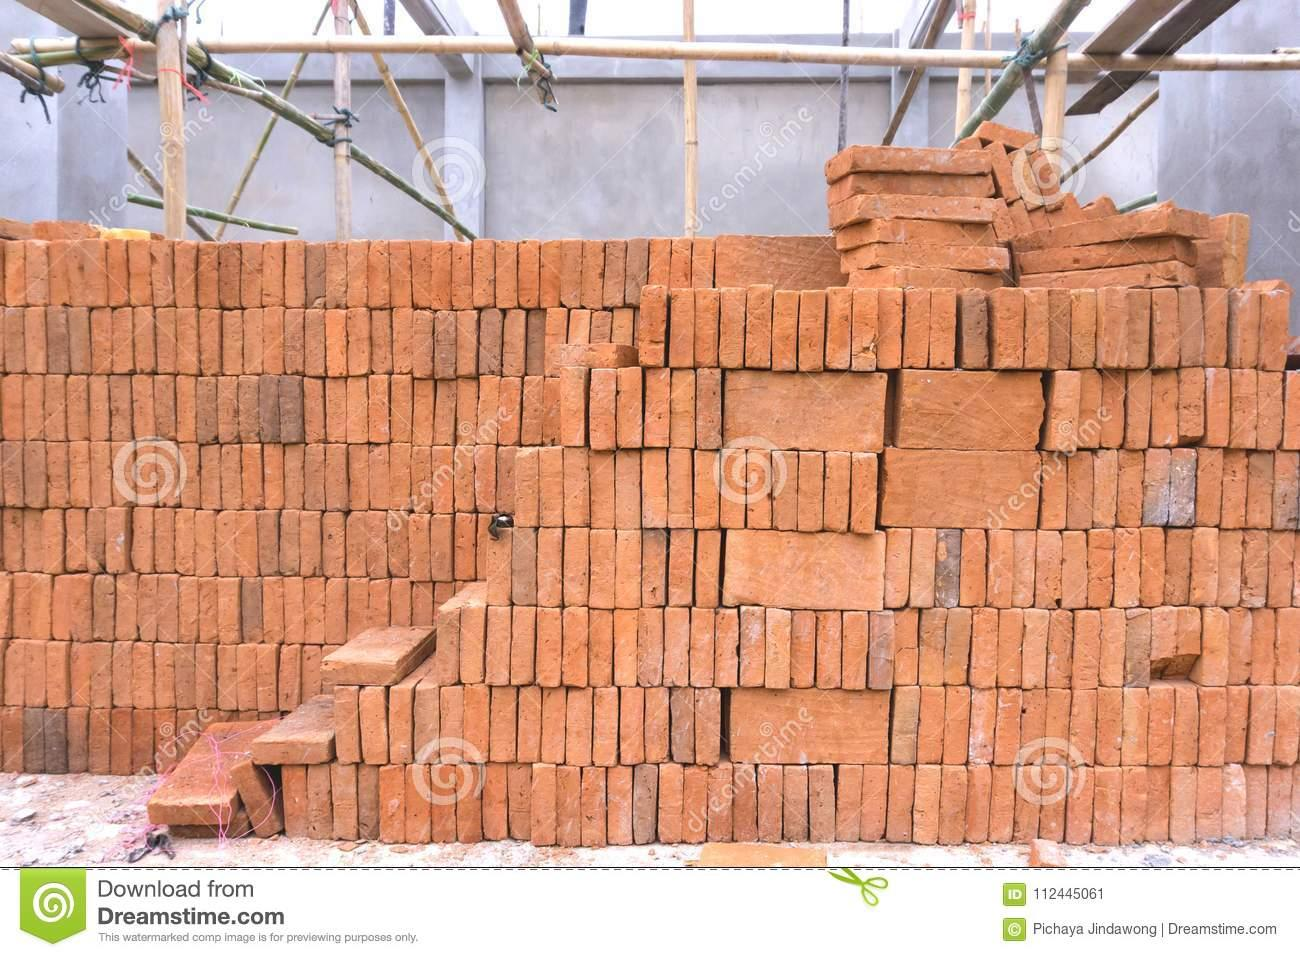brick: (723, 370, 887, 452), (723, 529, 886, 610), (881, 447, 1042, 529), (730, 687, 890, 764), (896, 369, 1045, 448), (716, 235, 850, 290), (1018, 237, 1176, 273), (1020, 260, 1179, 287), (852, 144, 991, 173), (232, 762, 283, 839), (856, 195, 993, 220), (875, 243, 1009, 269), (851, 174, 995, 196), (877, 219, 995, 244), (1048, 370, 1081, 450), (1260, 290, 1290, 369), (996, 287, 1024, 368), (1093, 767, 1122, 846), (745, 284, 772, 367), (970, 608, 998, 688), (1200, 608, 1229, 685), (1102, 287, 1129, 368), (851, 452, 878, 534), (1123, 608, 1152, 686), (1072, 610, 1100, 688), (891, 685, 919, 764), (939, 765, 967, 844), (639, 286, 666, 366), (876, 288, 903, 368), (798, 290, 826, 370), (1022, 608, 1050, 688), (1229, 369, 1258, 447), (1190, 527, 1218, 605), (1069, 690, 1097, 768), (1066, 766, 1094, 844), (902, 289, 930, 368), (720, 449, 747, 529), (852, 288, 878, 370), (1169, 449, 1197, 526), (919, 609, 948, 685), (1044, 688, 1072, 765), (826, 287, 852, 368), (934, 529, 961, 608), (1087, 529, 1114, 608), (1171, 686, 1198, 765), (1199, 687, 1226, 766), (913, 765, 941, 844), (985, 142, 1020, 203), (719, 288, 745, 368), (962, 288, 988, 368), (930, 288, 956, 368), (589, 369, 616, 450), (536, 607, 562, 687), (405, 764, 431, 845), (644, 368, 671, 446), (1040, 451, 1067, 529), (1273, 451, 1300, 529), (1036, 530, 1063, 608), (943, 686, 970, 764), (994, 687, 1021, 765), (887, 764, 914, 842), (1153, 288, 1179, 367), (909, 528, 936, 608), (885, 529, 911, 609), (485, 606, 512, 685), (562, 607, 588, 686), (1268, 531, 1295, 608), (917, 686, 945, 763), (836, 765, 863, 842), (1013, 766, 1041, 843), (969, 689, 997, 763), (563, 447, 589, 526), (997, 608, 1023, 686), (1100, 608, 1126, 686), (842, 612, 868, 690), (456, 764, 482, 843), (530, 766, 556, 845), (663, 606, 688, 687), (945, 609, 972, 684), (490, 686, 517, 762), (1121, 688, 1149, 764), (1125, 370, 1152, 448), (1196, 448, 1222, 526), (1221, 450, 1248, 528), (960, 528, 986, 606), (589, 530, 616, 608), (1061, 531, 1087, 609), (816, 612, 842, 689), (1274, 685, 1300, 763), (1249, 686, 1275, 764), (566, 687, 592, 765), (1148, 687, 1174, 765), (965, 764, 991, 842), (1179, 286, 1204, 366), (825, 451, 850, 532), (740, 606, 765, 686), (633, 764, 658, 845), (861, 765, 888, 840), (1144, 448, 1170, 525), (1067, 451, 1093, 528), (1241, 530, 1268, 607), (360, 686, 387, 763), (989, 766, 1015, 843), (682, 766, 709, 843), (773, 291, 798, 370), (1258, 370, 1283, 450), (1140, 527, 1165, 607), (766, 608, 791, 687), (1097, 686, 1122, 766), (904, 268, 1003, 288), (797, 452, 823, 531), (987, 530, 1012, 609), (1047, 609, 1072, 687), (463, 683, 489, 762), (808, 765, 834, 844), (581, 768, 607, 847), (1196, 768, 1223, 841), (1071, 289, 1096, 366), (1118, 449, 1144, 527), (589, 450, 615, 528), (486, 528, 512, 606), (537, 528, 562, 606), (616, 530, 641, 608), (893, 608, 918, 685), (334, 685, 359, 763), (620, 687, 645, 765), (592, 688, 618, 766), (1152, 371, 1178, 446), (1166, 529, 1192, 604), (331, 765, 357, 840), (617, 367, 641, 448), (697, 368, 722, 449), (539, 446, 563, 527), (695, 531, 721, 608), (1251, 608, 1276, 684), (1020, 688, 1046, 765), (482, 763, 508, 840), (380, 765, 405, 842), (1040, 766, 1065, 843), (1171, 767, 1196, 844), (669, 288, 693, 367), (694, 288, 719, 367), (1205, 367, 1229, 447), (668, 448, 692, 528), (690, 608, 715, 687), (460, 607, 485, 682), (321, 659, 397, 684), (1121, 767, 1147, 843), (1101, 369, 1125, 448), (642, 449, 666, 528), (694, 450, 719, 529), (747, 450, 771, 529), (564, 528, 588, 607), (1115, 528, 1140, 607), (511, 607, 535, 685), (1276, 607, 1300, 685), (638, 608, 662, 686), (869, 611, 893, 689), (659, 764, 683, 843), (608, 766, 632, 845), (1204, 288, 1228, 365), (670, 369, 694, 447), (1093, 450, 1117, 528), (772, 451, 796, 529), (616, 451, 640, 529), (642, 529, 666, 607), (791, 611, 816, 688), (733, 764, 757, 842), (758, 765, 782, 843), (1178, 367, 1205, 436), (978, 120, 1038, 151), (1248, 453, 1273, 527), (669, 529, 693, 606), (588, 610, 613, 686), (1225, 686, 1250, 763), (541, 686, 565, 763), (695, 688, 720, 765), (431, 765, 455, 842), (1024, 288, 1048, 367), (560, 366, 583, 446), (516, 447, 539, 527), (1012, 531, 1037, 607), (415, 687, 439, 763), (783, 765, 807, 841), (708, 767, 732, 843), (1235, 289, 1259, 367), (436, 607, 459, 685), (716, 609, 739, 687), (1049, 288, 1071, 369), (282, 765, 307, 837), (1078, 369, 1101, 447), (251, 741, 329, 764), (1145, 767, 1169, 841), (512, 528, 535, 605), (1228, 607, 1252, 683), (615, 609, 638, 685), (645, 686, 668, 763), (1219, 530, 1242, 606), (518, 686, 541, 762), (670, 687, 693, 763), (147, 803, 230, 824), (441, 685, 463, 764), (557, 767, 579, 846), (1268, 765, 1292, 836), (308, 765, 331, 839), (390, 687, 412, 764), (1223, 763, 1245, 839), (508, 764, 530, 840), (280, 376, 304, 443), (1244, 765, 1267, 839), (128, 239, 152, 306), (1129, 289, 1150, 368), (581, 240, 605, 309), (477, 376, 501, 444), (503, 309, 526, 377), (324, 578, 348, 643), (625, 238, 648, 305), (603, 239, 626, 306), (197, 241, 220, 308), (177, 308, 200, 375), (479, 309, 503, 376), (132, 375, 155, 441), (390, 375, 413, 441), (499, 378, 522, 444), (326, 443, 349, 510), (367, 239, 390, 308), (560, 239, 582, 308), (390, 239, 412, 308), (551, 344, 617, 367), (218, 577, 241, 643), (85, 239, 107, 307), (472, 239, 495, 307), (434, 311, 456, 379), (24, 441, 46, 509), (473, 445, 496, 513), (409, 514, 431, 581), (4, 240, 26, 307), (152, 240, 175, 307), (46, 307, 69, 374), (24, 307, 46, 374), (69, 307, 91, 374), (347, 308, 369, 375), (545, 309, 567, 376), (199, 309, 221, 376), (258, 376, 281, 442), (455, 379, 477, 445), (434, 380, 456, 446), (387, 510, 409, 576), (1, 375, 23, 440), (67, 375, 89, 440), (110, 376, 132, 441), (112, 442, 134, 508), (47, 442, 70, 508), (300, 511, 322, 576), (322, 512, 344, 577), (279, 645, 301, 711), (176, 239, 197, 308), (368, 375, 390, 443), (26, 240, 48, 305), (412, 381, 434, 445), (41, 509, 64, 573), (1, 707, 23, 771), (107, 238, 128, 306), (497, 240, 518, 308), (325, 309, 346, 377), (413, 310, 434, 378), (390, 443, 411, 511), (304, 443, 325, 511), (432, 446, 453, 514), (366, 510, 388, 577), (358, 763, 377, 838), (262, 240, 284, 307), (240, 241, 261, 308), (451, 242, 472, 309), (91, 308, 112, 375), (304, 377, 325, 443), (369, 443, 391, 510), (454, 513, 475, 579), (431, 515, 452, 581), (93, 574, 114, 641), (178, 576, 199, 643), (304, 577, 325, 644), (134, 307, 155, 373), (113, 308, 134, 374), (222, 310, 243, 376), (154, 375, 176, 440), (346, 378, 367, 443), (243, 444, 264, 510), (132, 508, 153, 573), (116, 574, 137, 640), (262, 576, 284, 642), (241, 577, 262, 643), (348, 239, 368, 308), (519, 239, 539, 308), (523, 376, 543, 444), (371, 310, 393, 375), (237, 511, 258, 575), (216, 511, 237, 575), (91, 643, 112, 708), (23, 709, 44, 773), (133, 711, 154, 775), (285, 239, 305, 307), (411, 239, 431, 307), (217, 376, 237, 443), (158, 574, 179, 642), (72, 574, 92, 642), (111, 709, 131, 776), (176, 645, 197, 709), (45, 709, 67, 772), (326, 241, 346, 308), (220, 241, 240, 308), (263, 307, 284, 374), (305, 309, 325, 376), (91, 442, 111, 509), (454, 446, 474, 513), (497, 446, 517, 513), (196, 510, 216, 576), (133, 642, 153, 709), (256, 644, 277, 711), (89, 709, 109, 775), (49, 240, 70, 306), (306, 243, 326, 309), (4, 308, 24, 374), (393, 308, 413, 374), (457, 311, 477, 377), (45, 376, 66, 441), (3, 441, 23, 507), (222, 444, 242, 510), (348, 444, 368, 510), (346, 511, 366, 576), (198, 577, 218, 643), (4, 639, 24, 705), (25, 641, 45, 707), (155, 642, 176, 708), (68, 708, 88, 773), (541, 240, 560, 309), (432, 241, 451, 310), (326, 379, 346, 443), (201, 445, 221, 510), (154, 508, 175, 572), (196, 644, 216, 709), (217, 645, 237, 710), (155, 709, 176, 773), (258, 511, 279, 574), (90, 375, 109, 441), (239, 376, 258, 442), (264, 443, 284, 510), (285, 443, 304, 510), (412, 446, 431, 513), (31, 573, 50, 640), (138, 574, 157, 641), (285, 577, 304, 644), (1284, 370, 1300, 449), (3, 509, 23, 571), (66, 509, 86, 571), (70, 642, 90, 705), (156, 308, 176, 374), (24, 375, 43, 440), (177, 376, 196, 441), (198, 378, 217, 443), (176, 509, 195, 574), (113, 641, 132, 707), (47, 641, 67, 707), (285, 309, 304, 374), (71, 442, 90, 507), (180, 443, 199, 508), (86, 509, 105, 573), (237, 645, 256, 710), (51, 576, 71, 640), (1153, 606, 1176, 657), (107, 508, 125, 572), (280, 510, 298, 574), (349, 578, 368, 639), (301, 645, 321, 703), (691, 236, 714, 288), (244, 308, 261, 374), (1177, 608, 1201, 654), (544, 378, 560, 446), (13, 573, 30, 638), (528, 311, 545, 375), (68, 239, 84, 306), (24, 510, 41, 572), (670, 237, 691, 287), (391, 578, 412, 627), (369, 578, 390, 627), (650, 239, 669, 287), (412, 582, 432, 626), (567, 309, 590, 343), (612, 309, 633, 345), (590, 311, 613, 343)
